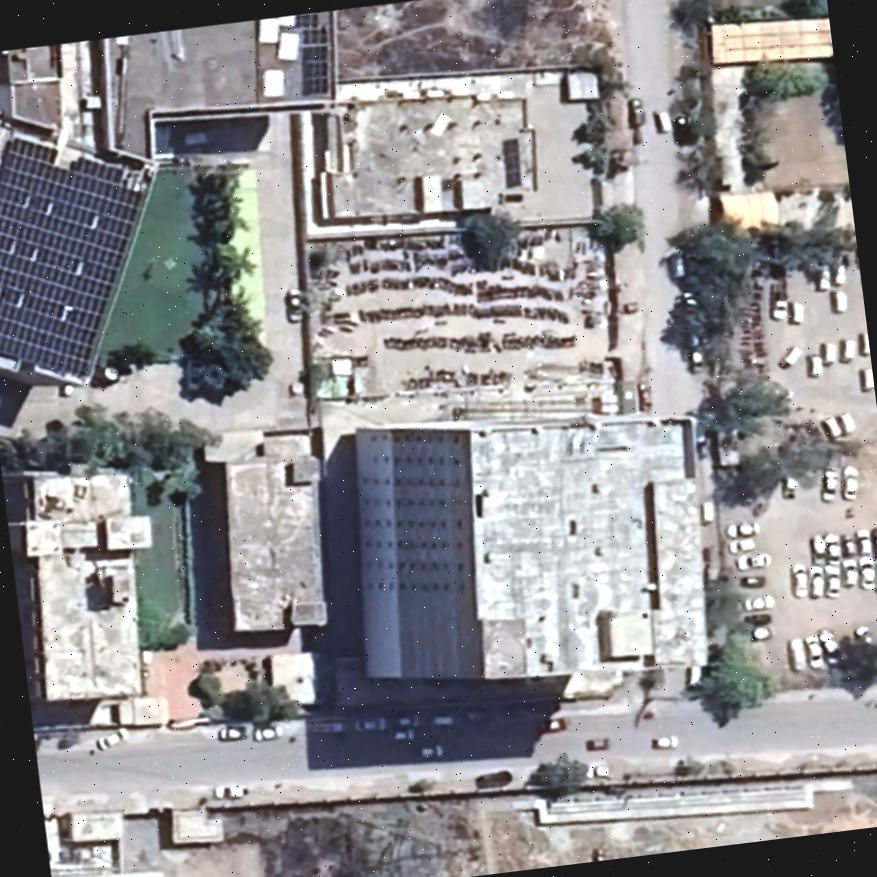Solarpanel: (0, 132, 151, 386)
